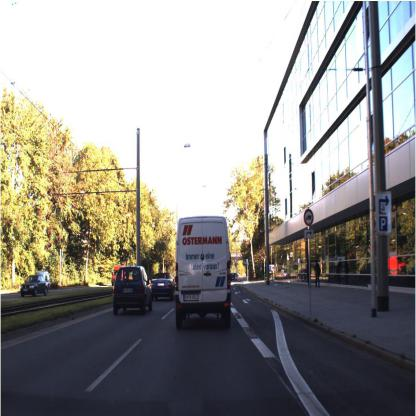prohibitory: (302, 206, 317, 228)
